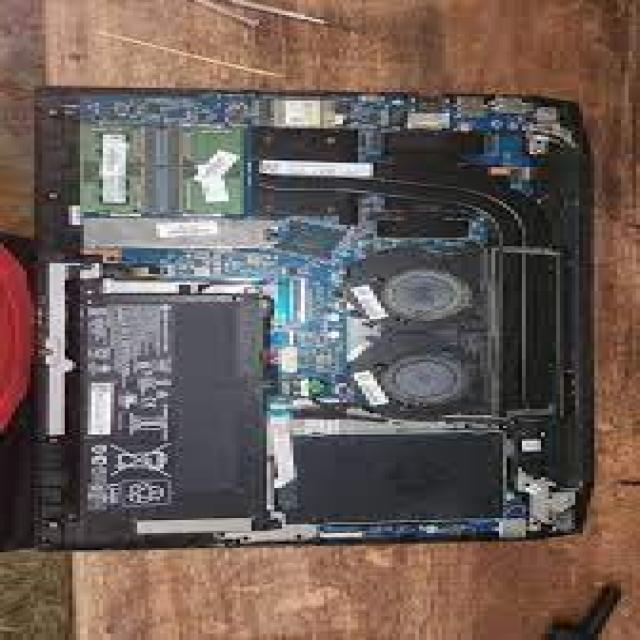SSD: (258, 88, 348, 139)
Screw: (76, 292, 284, 523)
